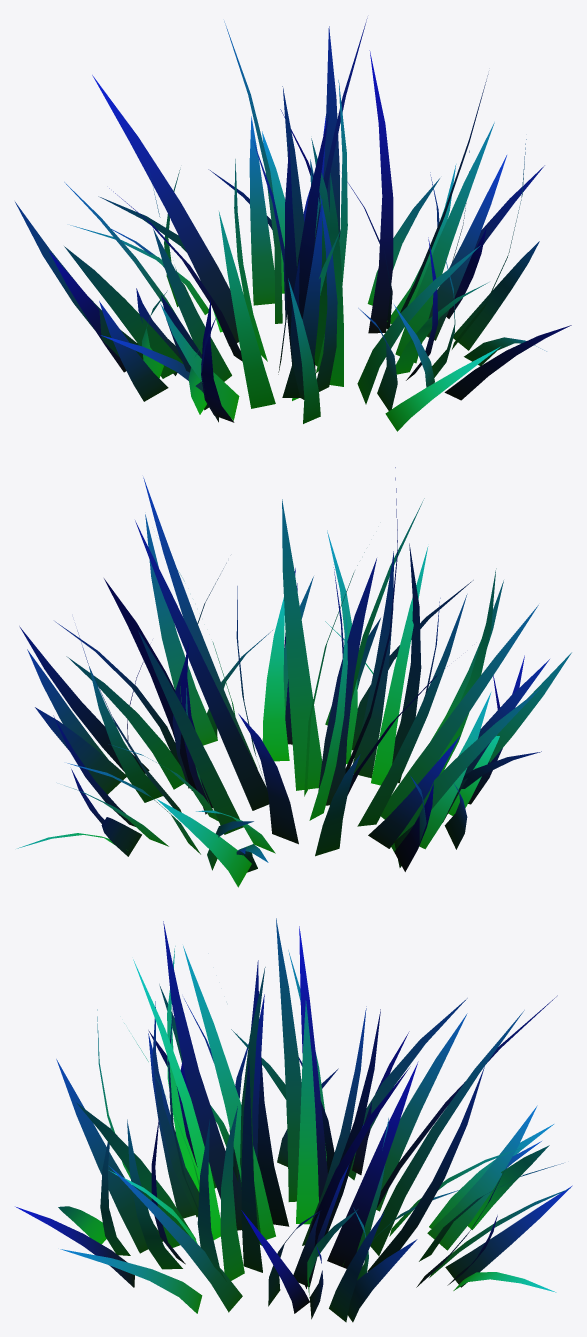
File: Grass_Clump_Wide.fbx
The picture shows the model from 3 angles, top to bottom: view 1: azimuth 30°, elevation 25°; view 2: azimuth 150°, elevation 25°; view 3: azimuth 270°, elevation 25°; orthographic projection. The views are drawn at different scales.
Visible parts, largest first — view 1: _exp_Grass_Clump_Wide; view 2: _exp_Grass_Clump_Wide; view 3: _exp_Grass_Clump_Wide.
Boxes of the visible parts, x1,y1,x2,y2 form: _exp_Grass_Clump_Wide: (15,18,571,431); _exp_Grass_Clump_Wide: (17,467,571,887); _exp_Grass_Clump_Wide: (15,918,572,1322).
Bounding box in the file's own units: 84.22 × 49.85 × 81.01.
